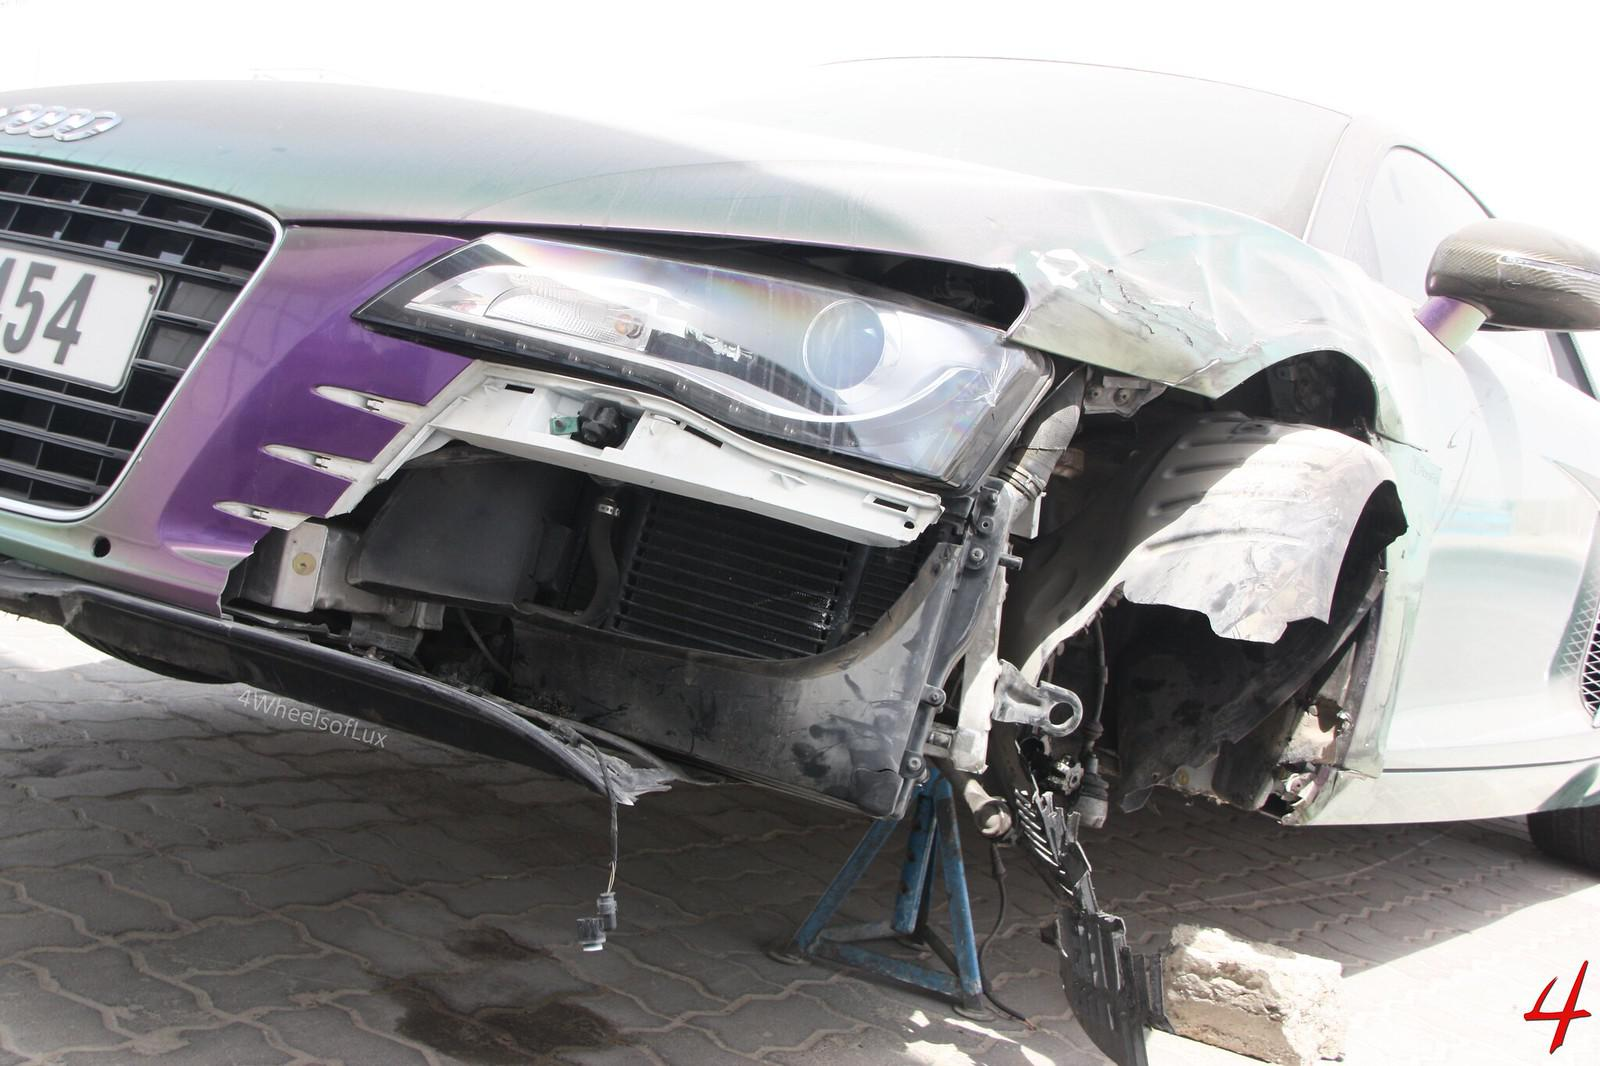front-bumper-dent: (299, 250, 1334, 863)
